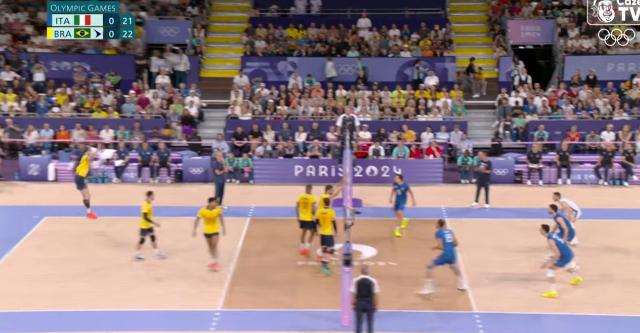Levantador: (315, 198, 337, 274), (390, 172, 408, 236)
Libero: (552, 191, 582, 223)
